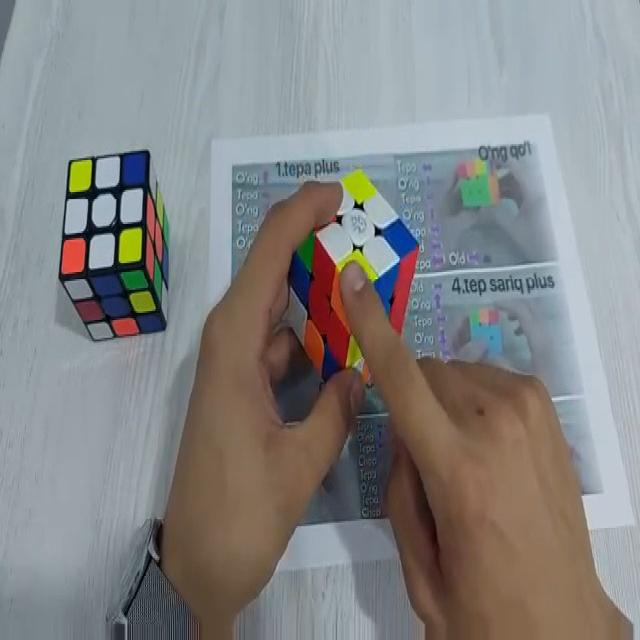Rub: (286, 166, 419, 394), (60, 148, 169, 342)
